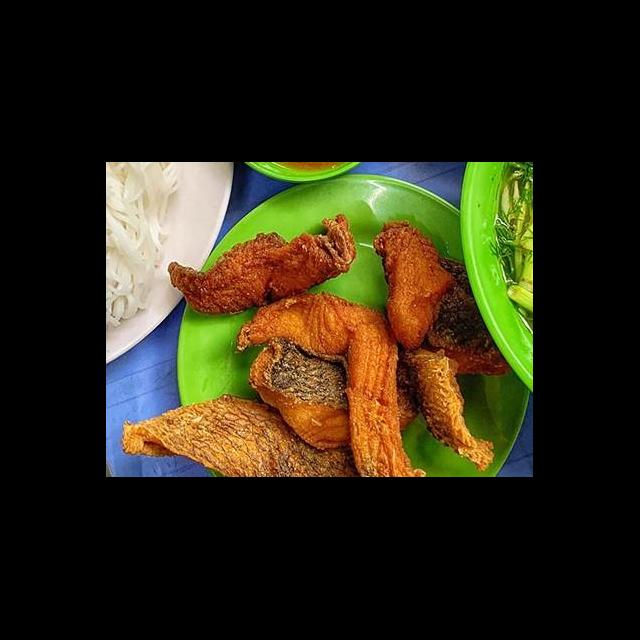bun: (109, 176, 188, 323)
bun ca: (107, 185, 480, 478)
ca: (231, 290, 428, 478), (244, 326, 442, 456), (160, 198, 364, 320), (116, 390, 374, 478), (390, 341, 500, 472), (368, 214, 448, 348)
